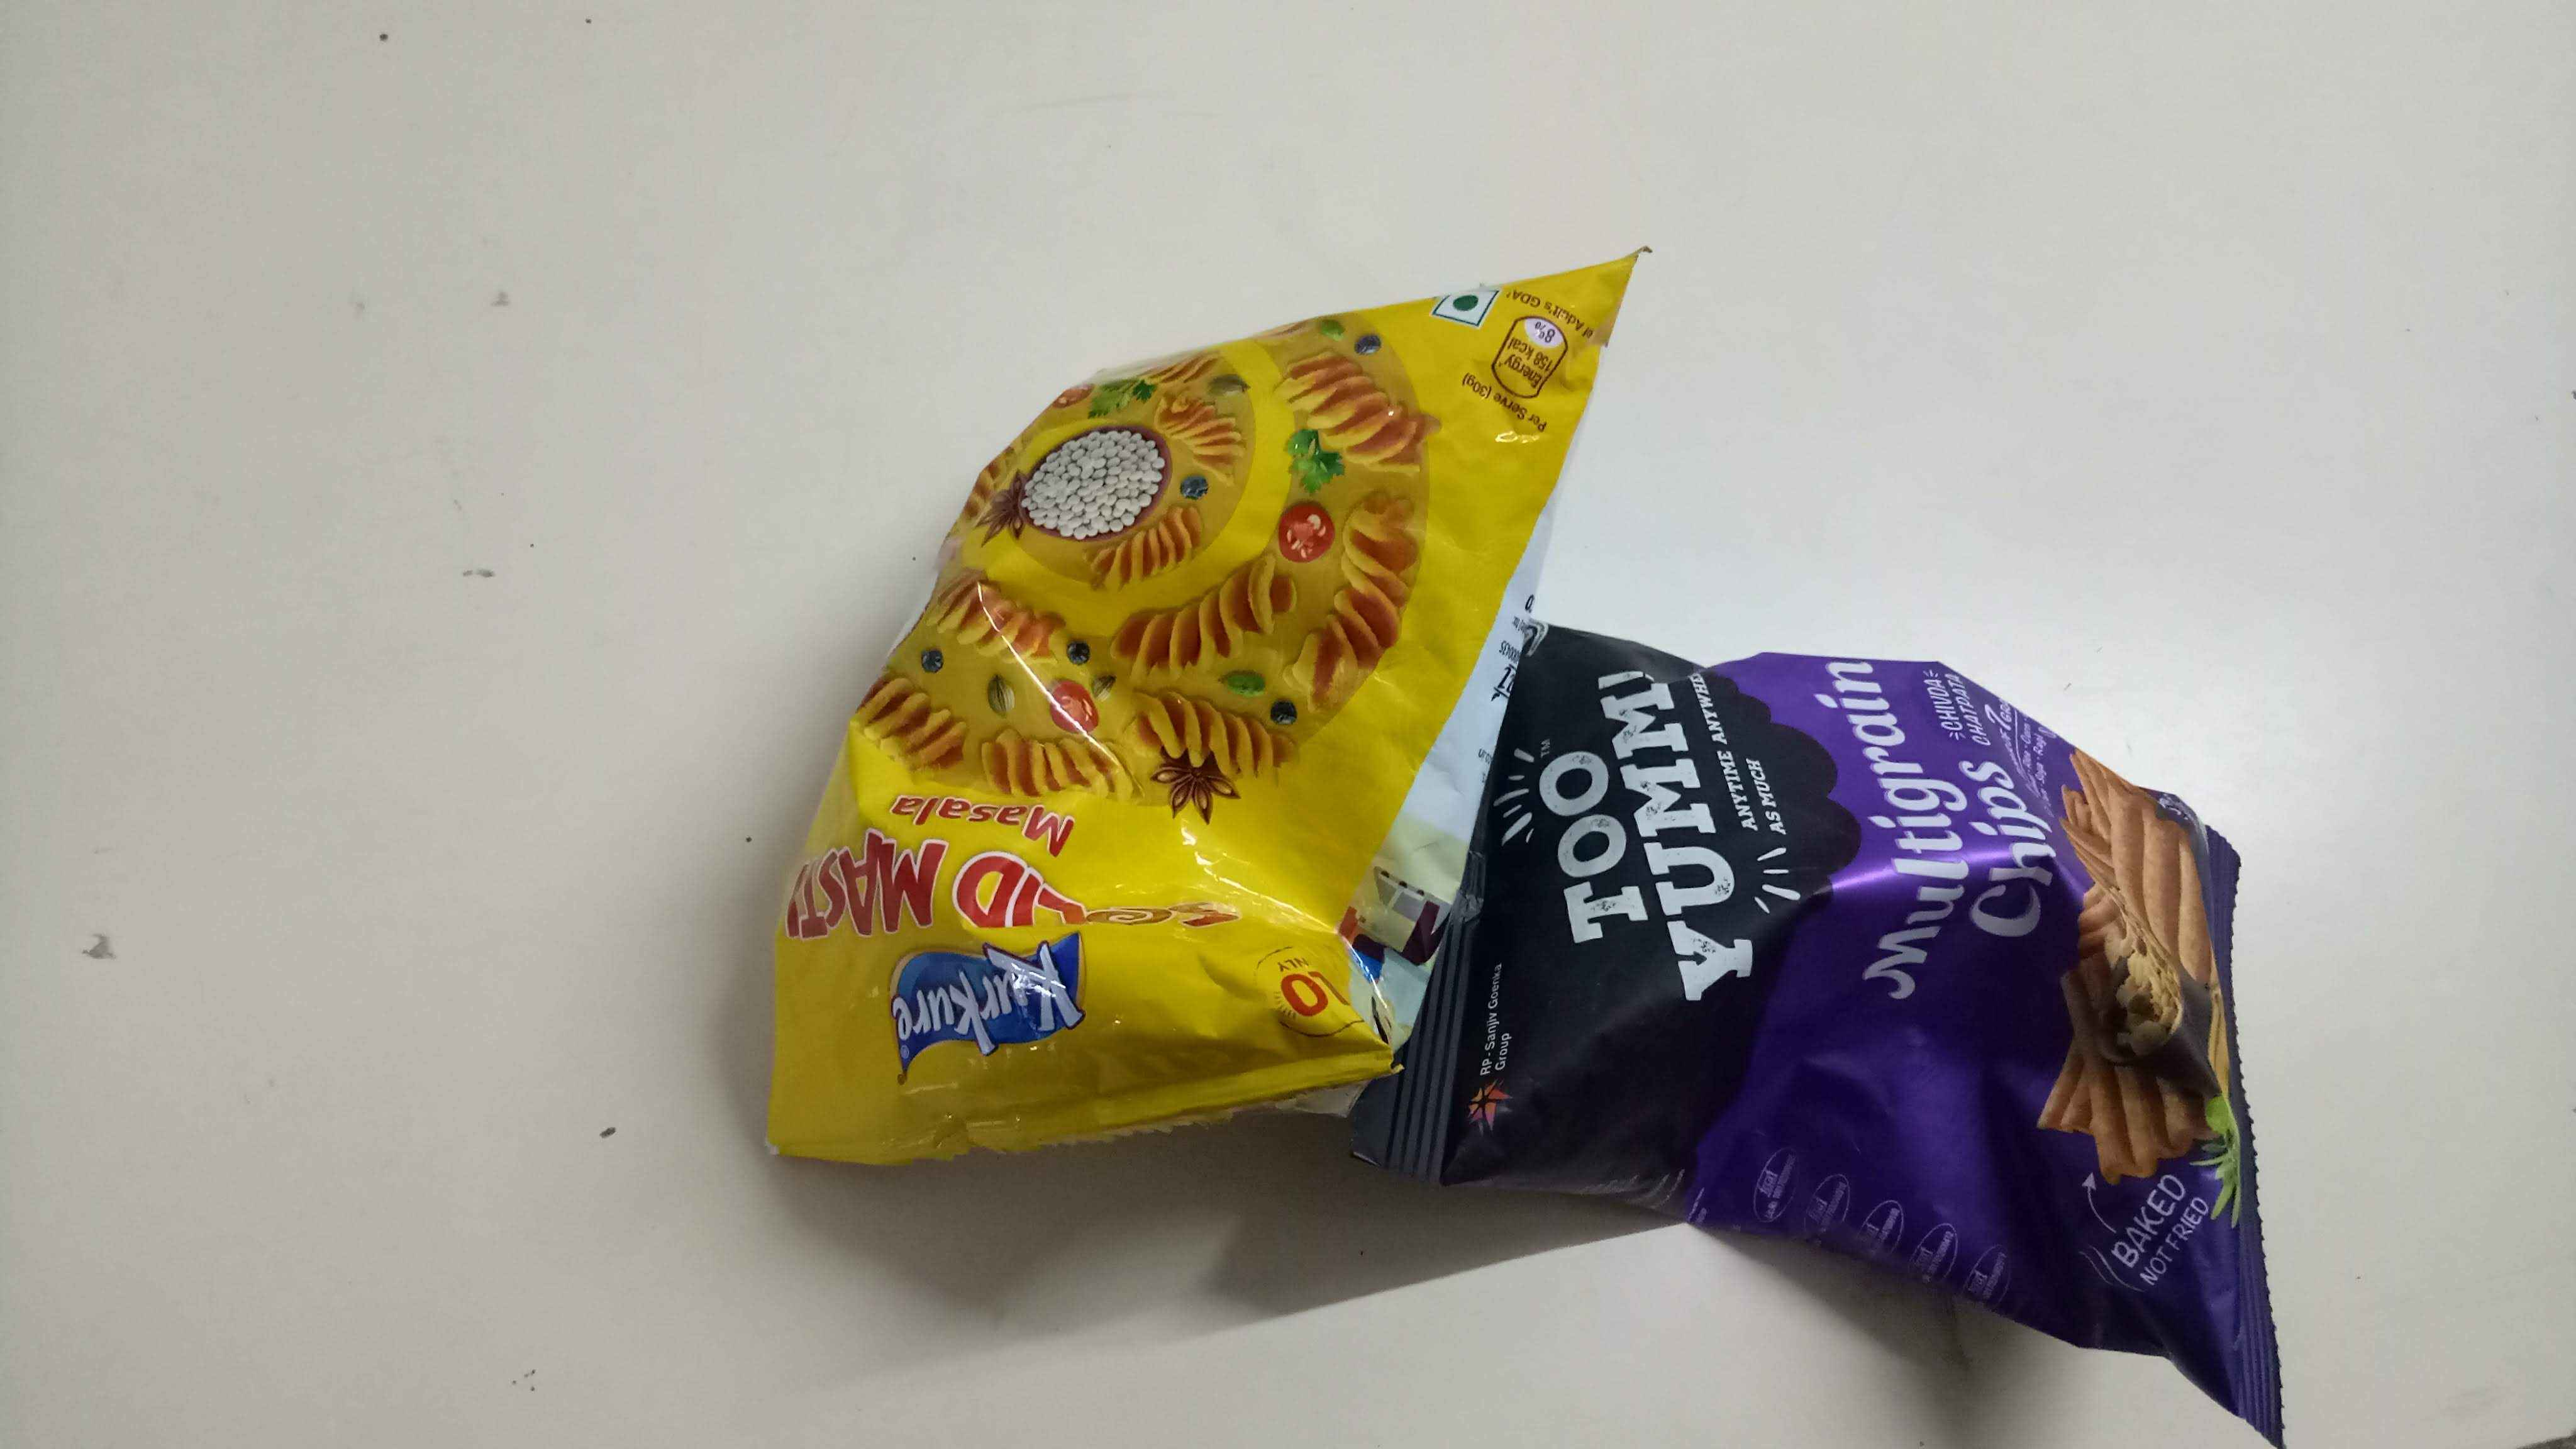kurkure: (856, 932, 1129, 1067)
tooyumm: (1507, 646, 1790, 1035)
